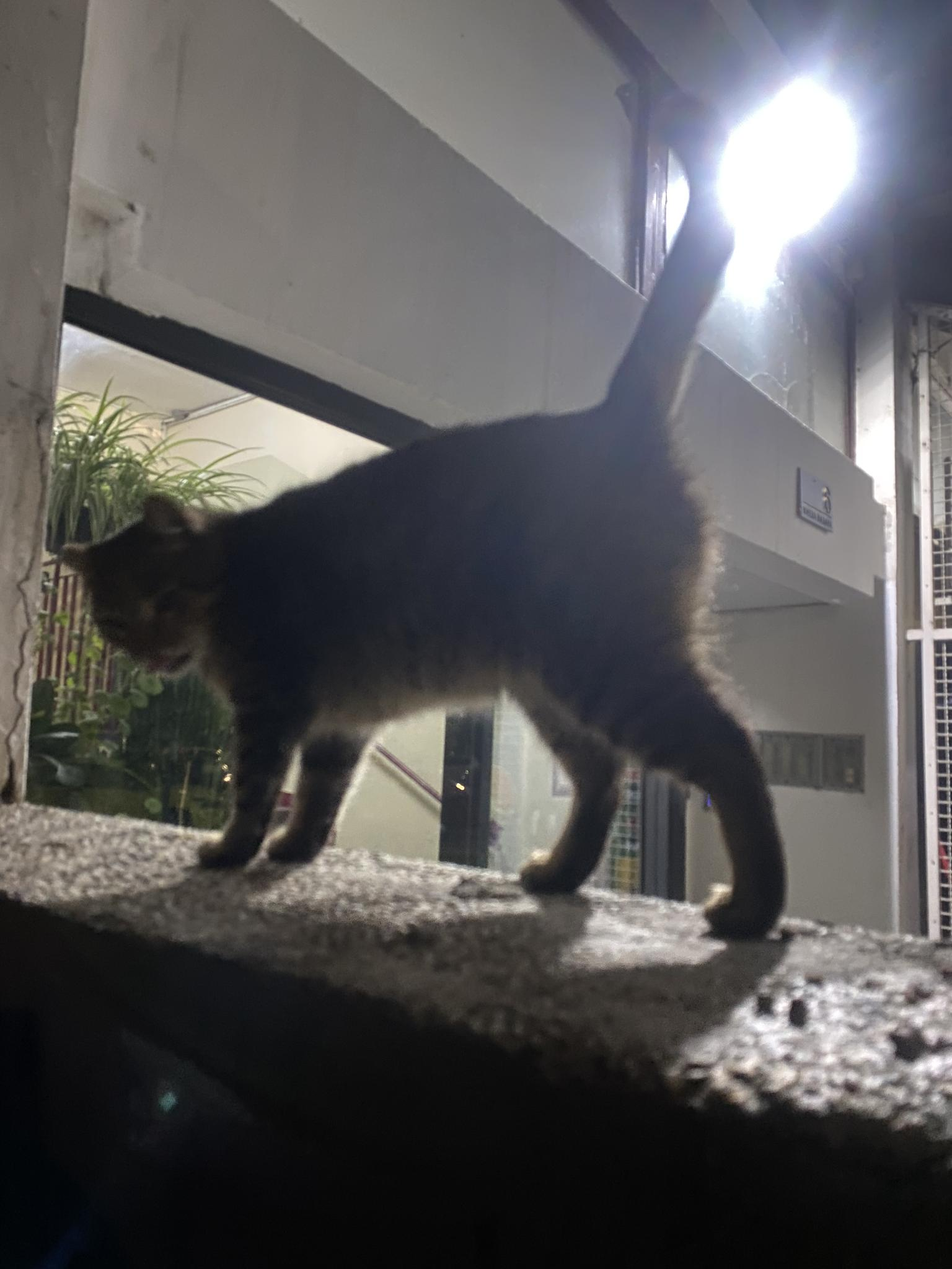macka: (58, 84, 790, 943)
